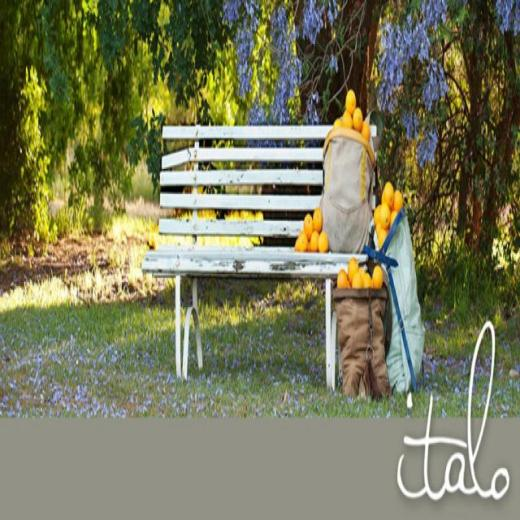Grape: (373, 176, 406, 254), (339, 88, 372, 144), (294, 205, 328, 252), (338, 258, 383, 287)
